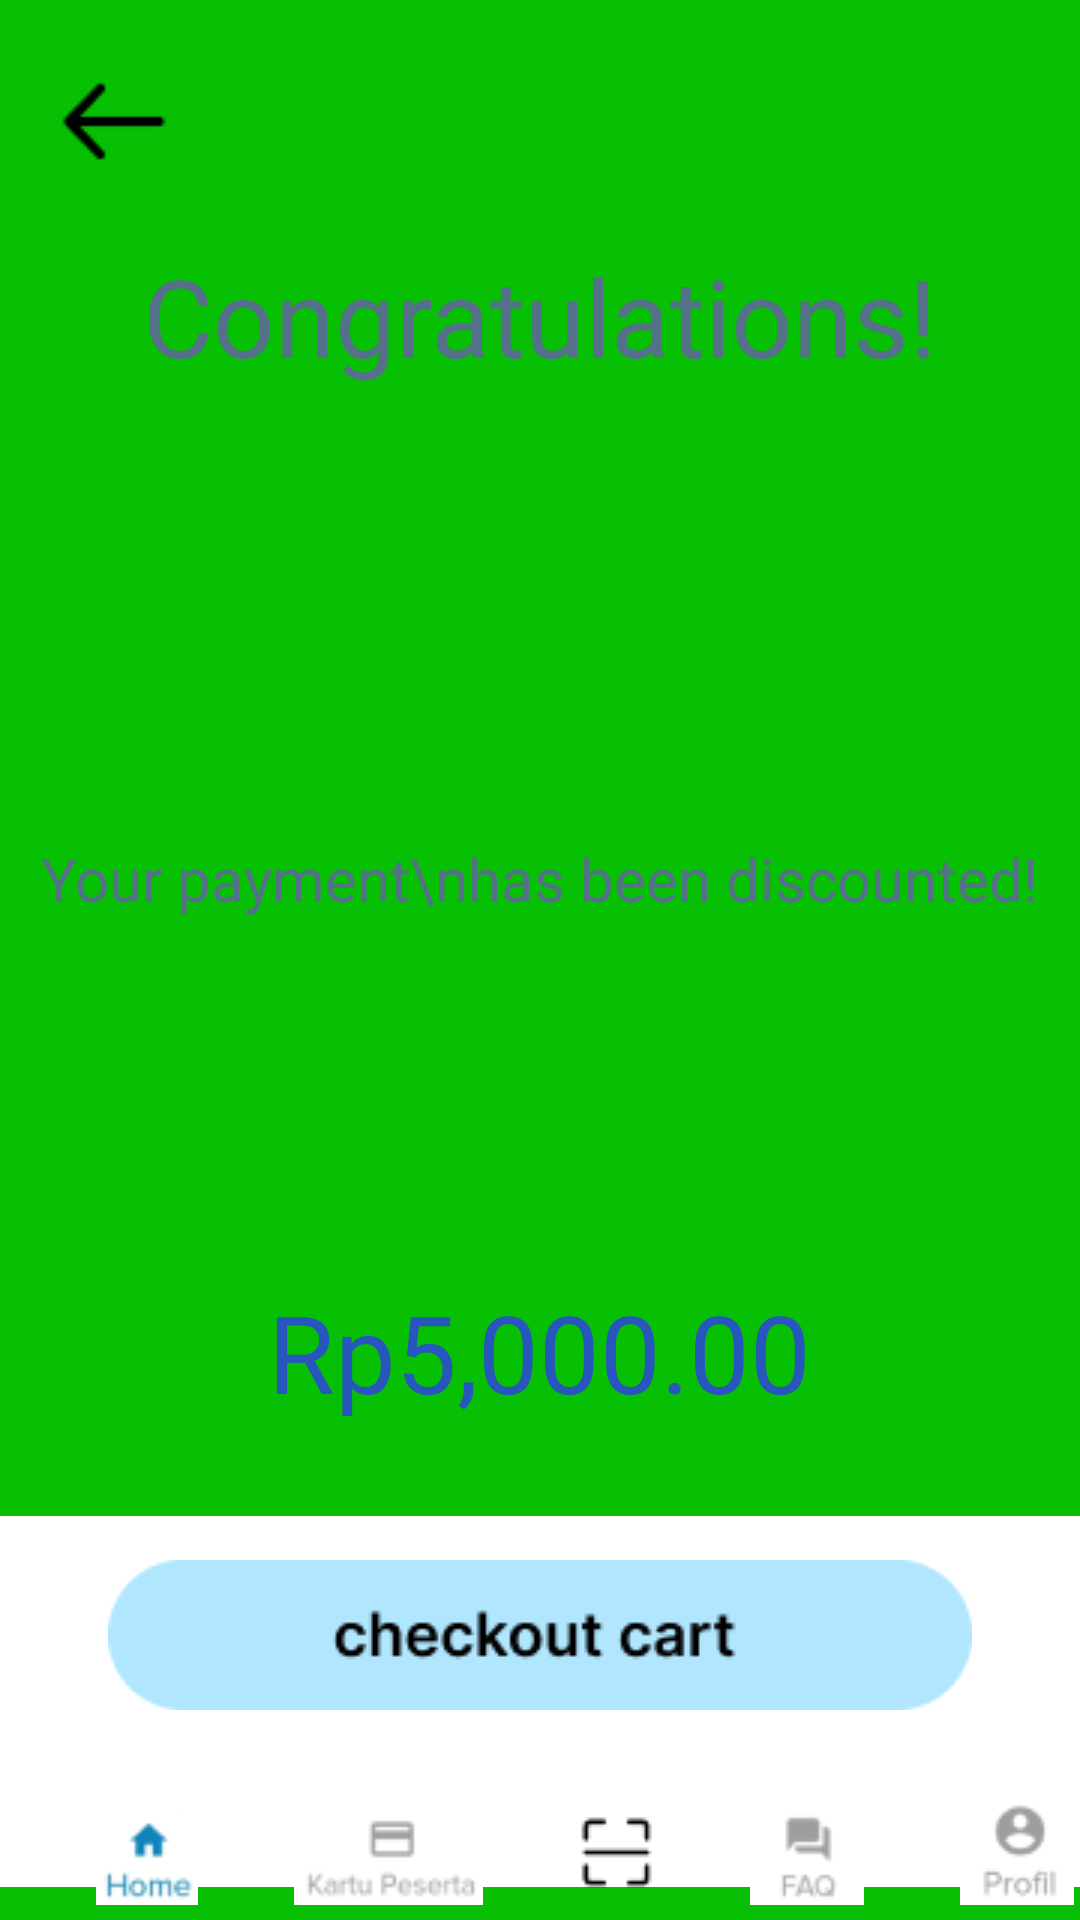

Icons on this 1080px×1920px Android screen, each with the point to tap as point (x, y):
back: point (114, 121)
